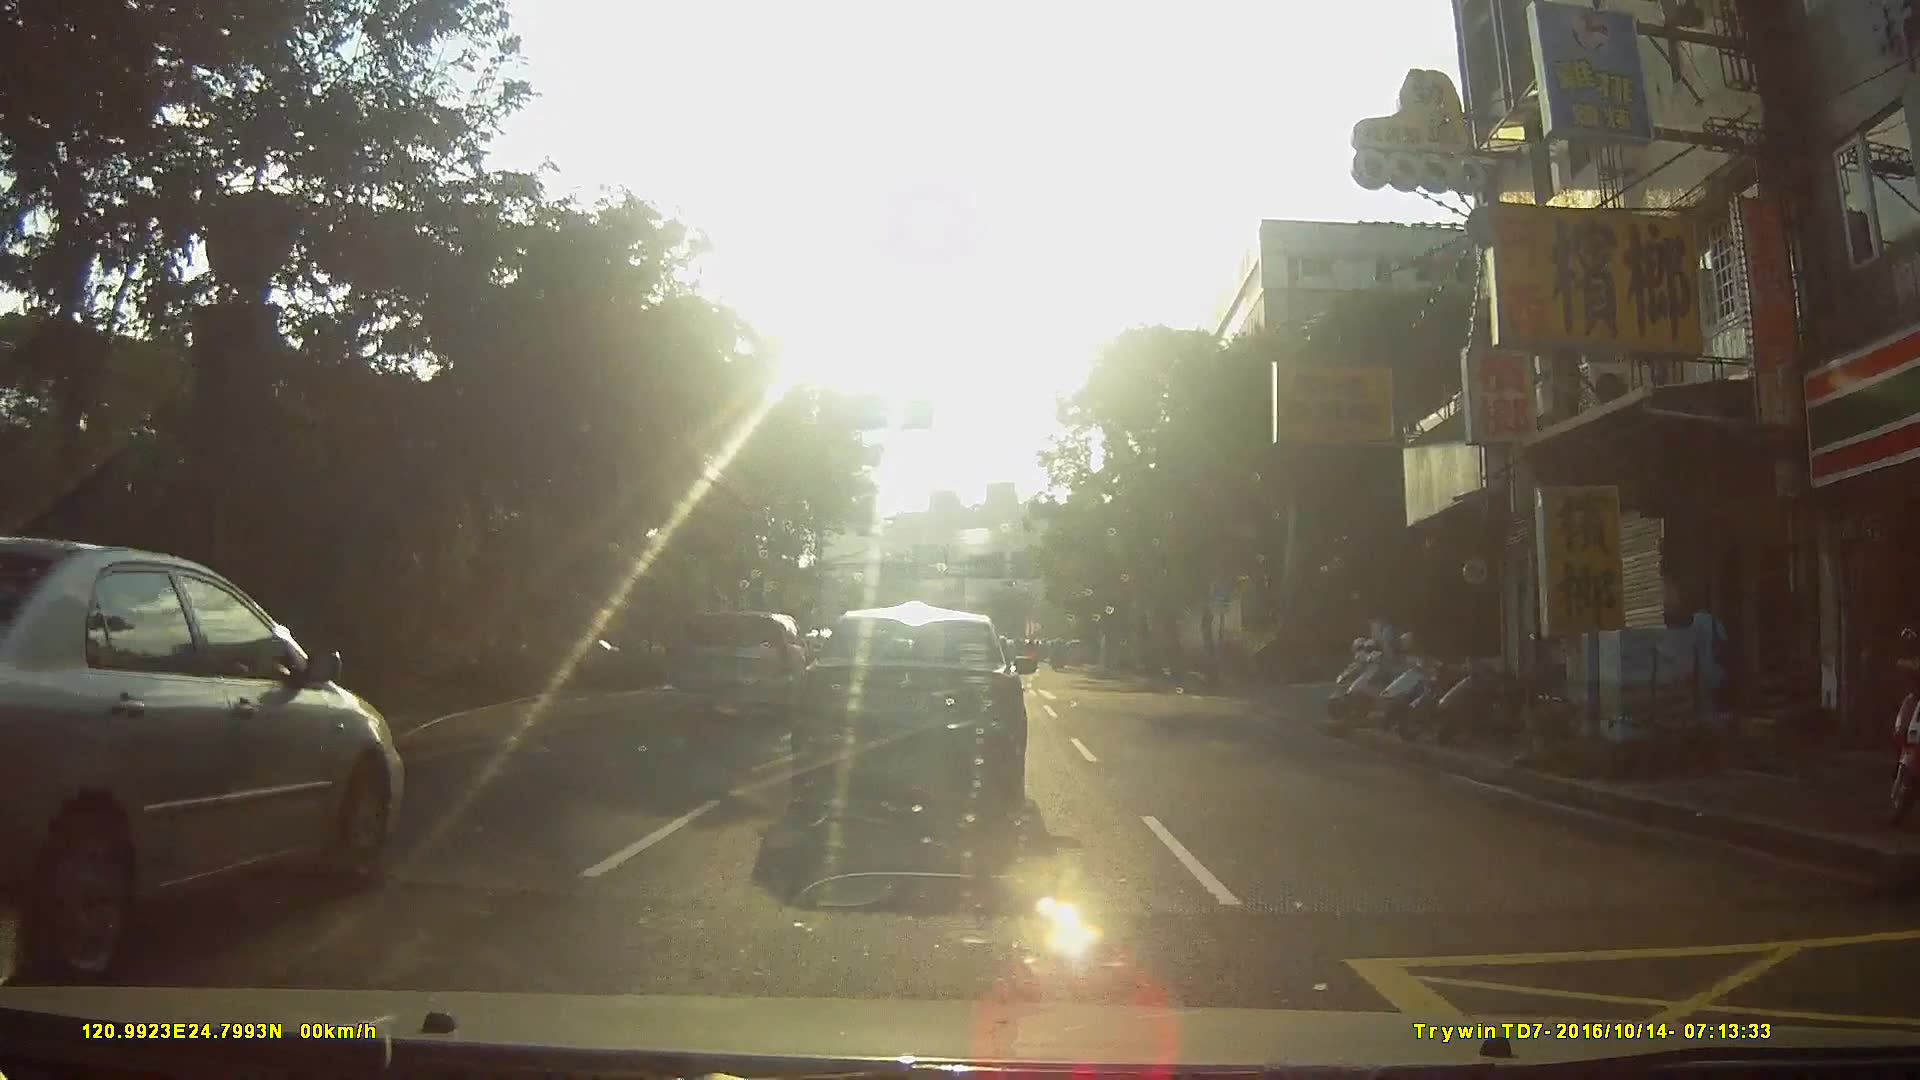pedestrian: (1670, 587, 1737, 740)
vehicle: (1, 529, 420, 972), (801, 599, 1054, 820), (677, 609, 817, 724), (1065, 637, 1095, 665)
